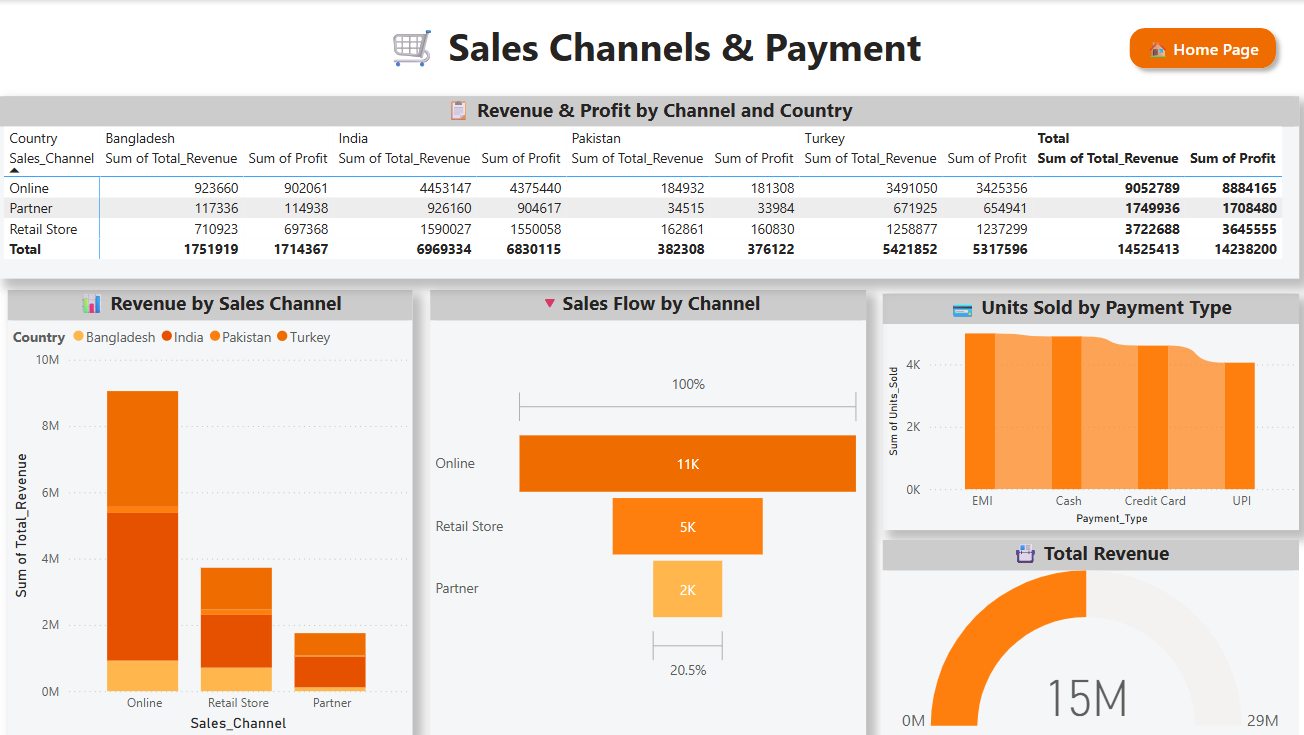

The page's visual inventory and layout, read from the dashboard file:
{"tool":"powerbi","page":{"name":"🛒 Sales Channels & Payment","canvas":[1280,720],"ordinal":3},"visuals":[{"type":"columnChart","title":"📊 Revenue by Sales Channel","fields":{"Category":["Fact_Sales.Sales_Channel"],"Y":["Sum(Fact_Sales.Total_Revenue)"],"Series":["Dim_Locations.Country"]},"box":[8.6,283.7,396.2,436.6],"z":0},{"type":"textbox","box":[0,14.7,1280.3,64.8],"z":1000},{"type":"shape","box":[1096.9,18.3,161.4,57.5],"z":2000},{"type":"ribbonChart","title":"💳 Units Sold by Payment Type","fields":{"Category":["Fact_Sales.Payment_Type"],"Y":["Sum(Fact_Sales.Units_Sold)"]},"box":[864.5,287.4,407.2,231.1],"z":3000},{"type":"funnel","title":" 🔻Sales Flow by Channel","fields":{"Category":["Fact_Sales.Sales_Channel"],"Y":["Sum(Fact_Sales.Units_Sold)"]},"box":[421.9,283.7,426.8,436.6],"z":4000},{"type":"pivotTable","title":"📋 Revenue & Profit by Channel and Country","fields":{"Rows":["Fact_Sales.Sales_Channel"],"Columns":["Dim_Locations.Country"],"Values":["Sum(Fact_Sales.Total_Revenue)","Sum(Fact_Sales.Profit)"]},"box":[0,94.2,1271.7,178.5],"z":5000},{"type":"gauge","title":"📇 Total Revenue","fields":{"Y":["Sum(Fact_Sales.Total_Revenue)"]},"box":[864.5,528.3,407.2,192],"z":6000}]}

Visuals, with their boxes in screenshot pixels (x1, y1, x2, y2), scaled from the page's 1280x720 canvas onto the 1304x735 screenshot:
"📊 Revenue by Sales Channel" columnChart: detection(9, 290, 412, 734)
textbox: detection(0, 15, 1303, 81)
shape: detection(1117, 19, 1282, 77)
"💳 Units Sold by Payment Type" ribbonChart: detection(881, 293, 1296, 529)
" 🔻Sales Flow by Channel" funnel: detection(430, 290, 865, 734)
"📋 Revenue & Profit by Channel and Country" pivotTable: detection(0, 96, 1296, 278)
"📇 Total Revenue" gauge: detection(881, 539, 1296, 734)
